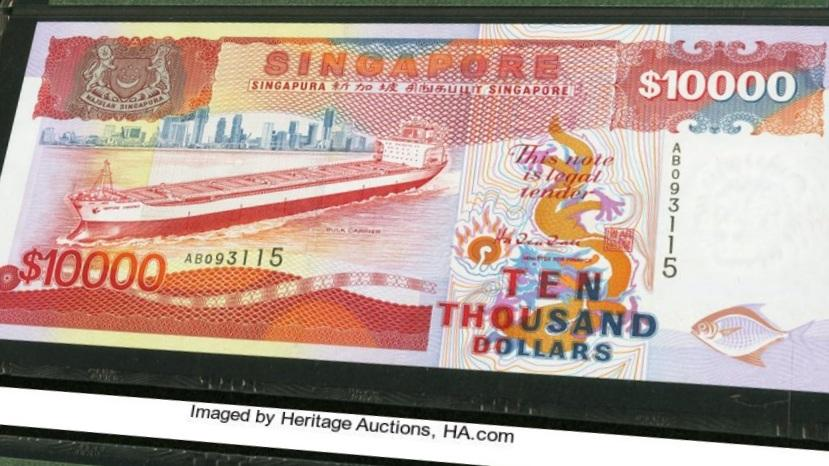10000SingaporeDollar: (0, 24, 829, 382)
